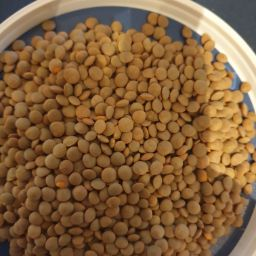Black Lentil(masoor daal): (47, 17, 256, 256), (2, 30, 179, 256), (4, 76, 252, 200), (6, 131, 230, 249)
